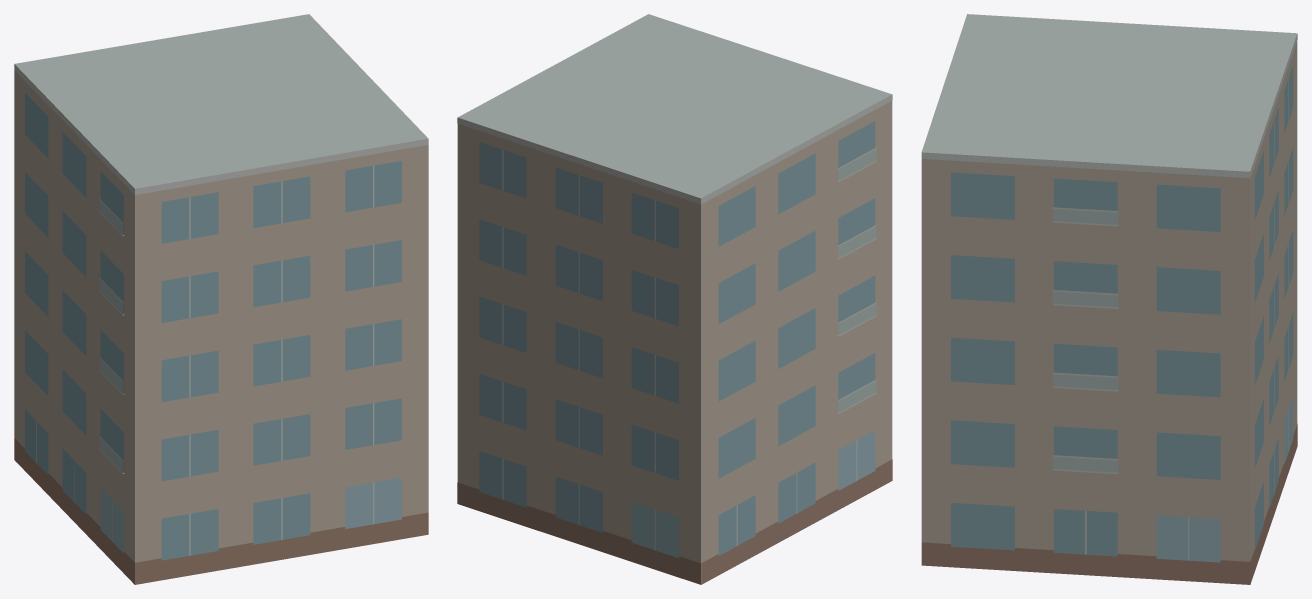
File: survey-upis-32540778.glb
3 renders of one model, left to right at view 1: azimuth 30°, elevation 25°; view 2: azimuth 150°, elevation 25°; view 3: azimuth 270°, elevation 25°, orthographic. The views are drawn at different scales.
Visible parts, largest first — view 1: survey-upis-32540778.tmp; view 2: survey-upis-32540778.tmp; view 3: survey-upis-32540778.tmp.
Boxes of the visible parts, x1,y1,x2,y2 form: survey-upis-32540778.tmp: [14, 14, 428, 584]; survey-upis-32540778.tmp: [457, 14, 892, 584]; survey-upis-32540778.tmp: [921, 14, 1297, 584].
Bounding box in the file's own units: 12.79 × 15.6 × 12.88.
